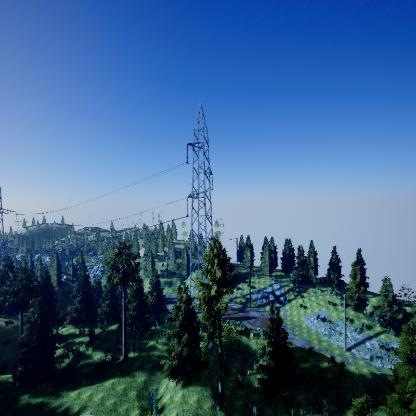tower: (181, 99, 220, 305)
